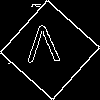V: (25, 25, 61, 72)
